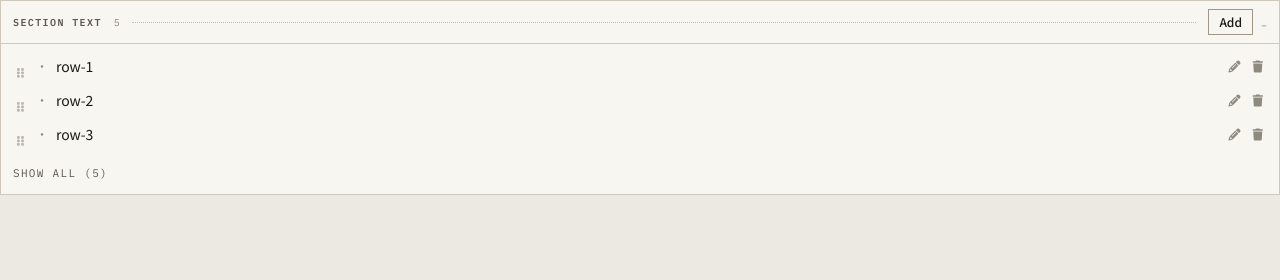
Test: TextSection › shows the first three rows and folds the rest
expect the number of buttons named "Edit" is 3: met, box [1224, 58, 1244, 74]; [1224, 92, 1244, 108]; [1224, 126, 1244, 142]
Step 1. Click the button "Show all (5)" → [60, 173], box [13, 165, 108, 182]
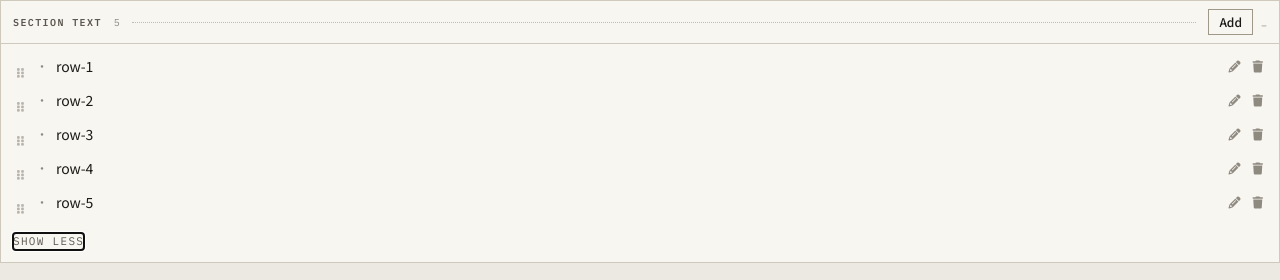
expect the number of buttons named "Edit" is 5: met, box [1224, 58, 1244, 74]; [1224, 92, 1244, 108]; [1224, 126, 1244, 142]; [1224, 160, 1244, 176]; [1224, 194, 1244, 210]
Step 2. Click the button "Show less" → [49, 241], box [13, 233, 84, 250]
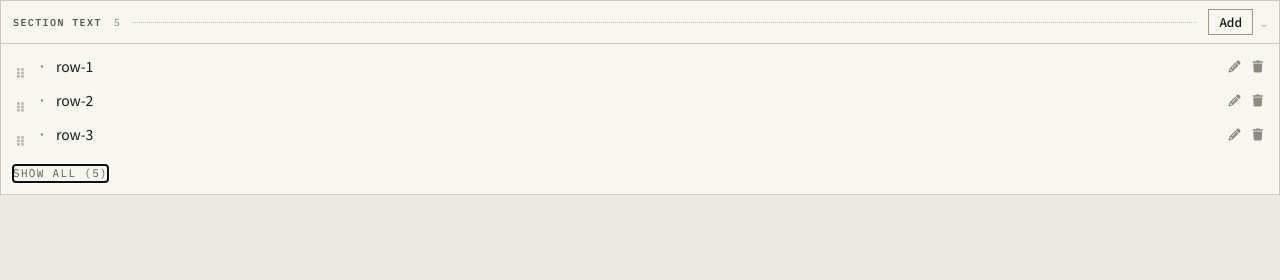
expect the number of buttons named "Edit" is 3: met, box [1224, 58, 1244, 74]; [1224, 92, 1244, 108]; [1224, 126, 1244, 142]
